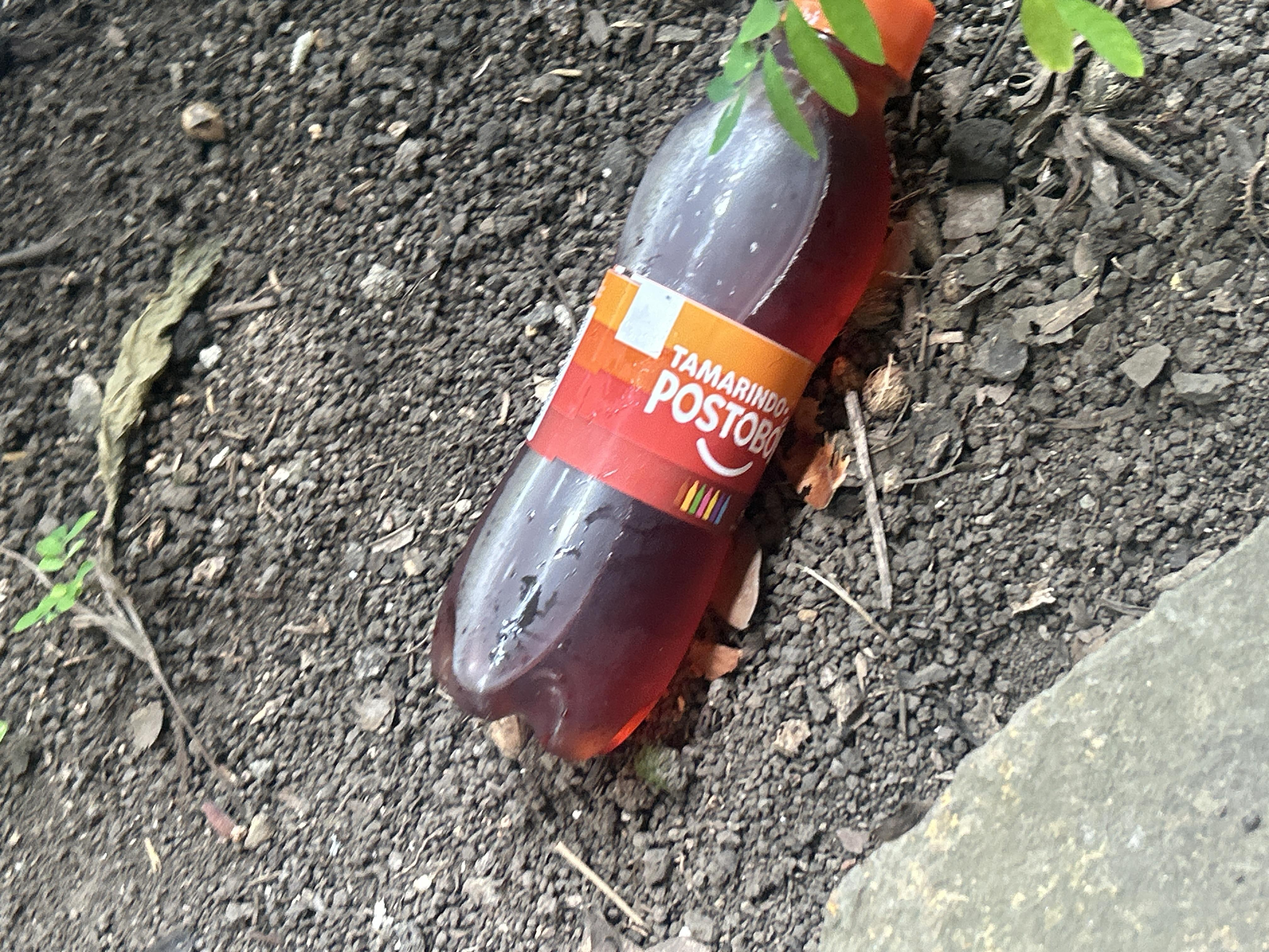tamarindo: (432, 0, 935, 760)
